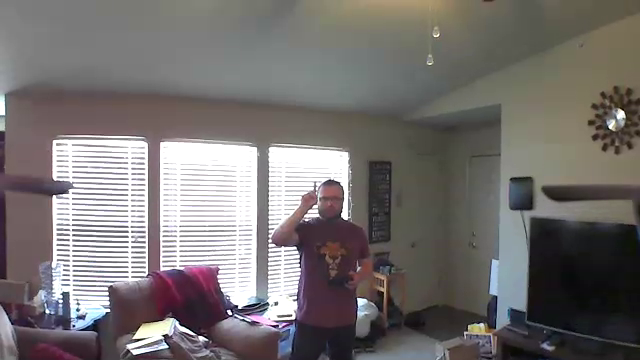up: (297, 180, 320, 209)
